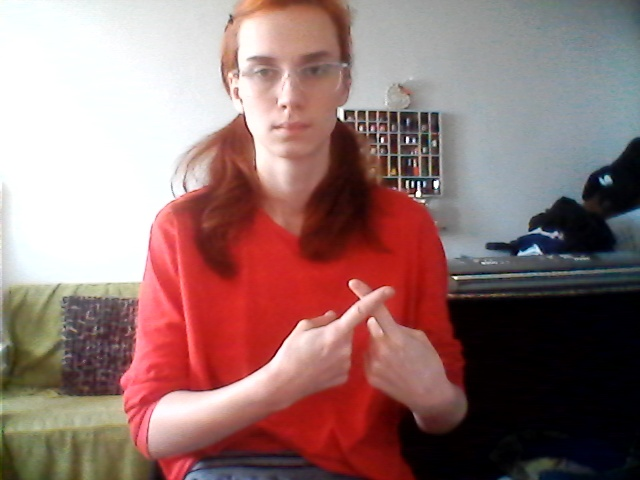x: (268, 270, 450, 416)
